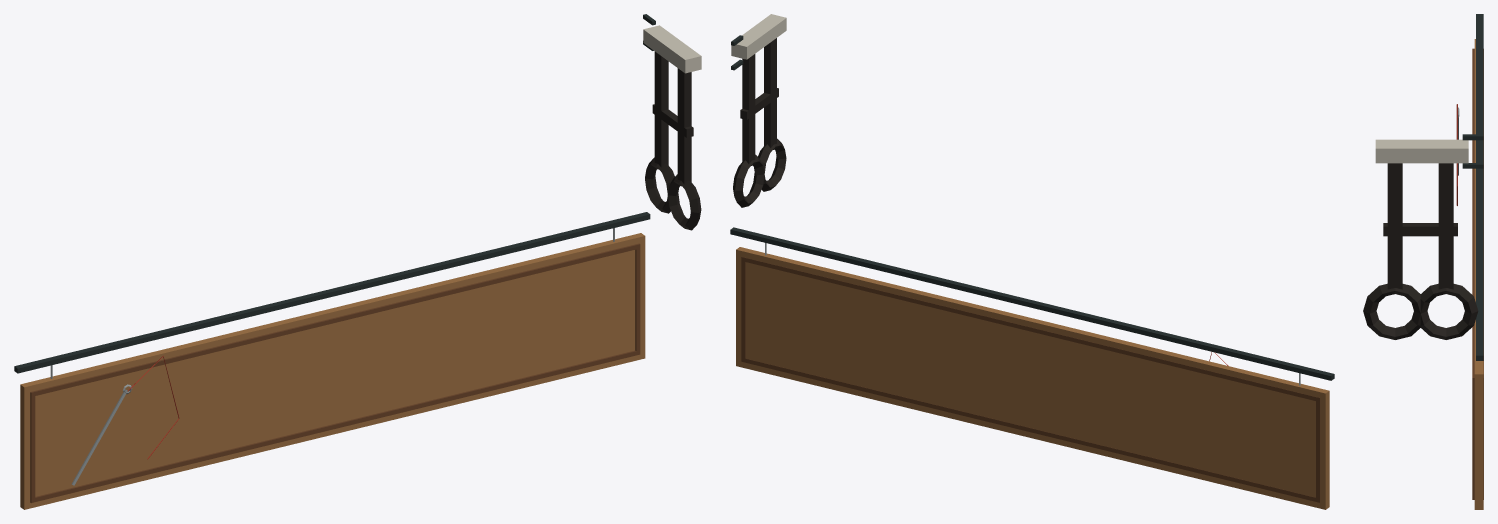
File: bang_tiem_may_be_tu_60.glb
3 views of the same model, side by side, from view 1: azimuth 30°, elevation 25°; view 2: azimuth 150°, elevation 25°; view 3: azimuth 270°, elevation 25° (orthographic). The views are drawn at different scales.
Visible parts, largest first — view 1: bang_tiem_may_be_tu_60; view 2: bang_tiem_may_be_tu_60; view 3: bang_tiem_may_be_tu_60.
Part boxes in pixels (x1=…): bang_tiem_may_be_tu_60: x1=14, y1=14, x2=701, y2=509; bang_tiem_may_be_tu_60: x1=730, y1=14, x2=1334, y2=509; bang_tiem_may_be_tu_60: x1=1363, y1=14, x2=1483, y2=509.
Size of the model in its own units: 5.45 by 2.78 by 0.807.
